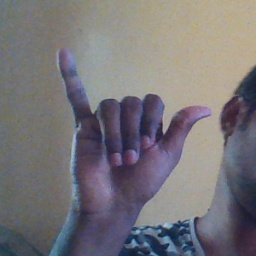J: (53, 45, 213, 208)
